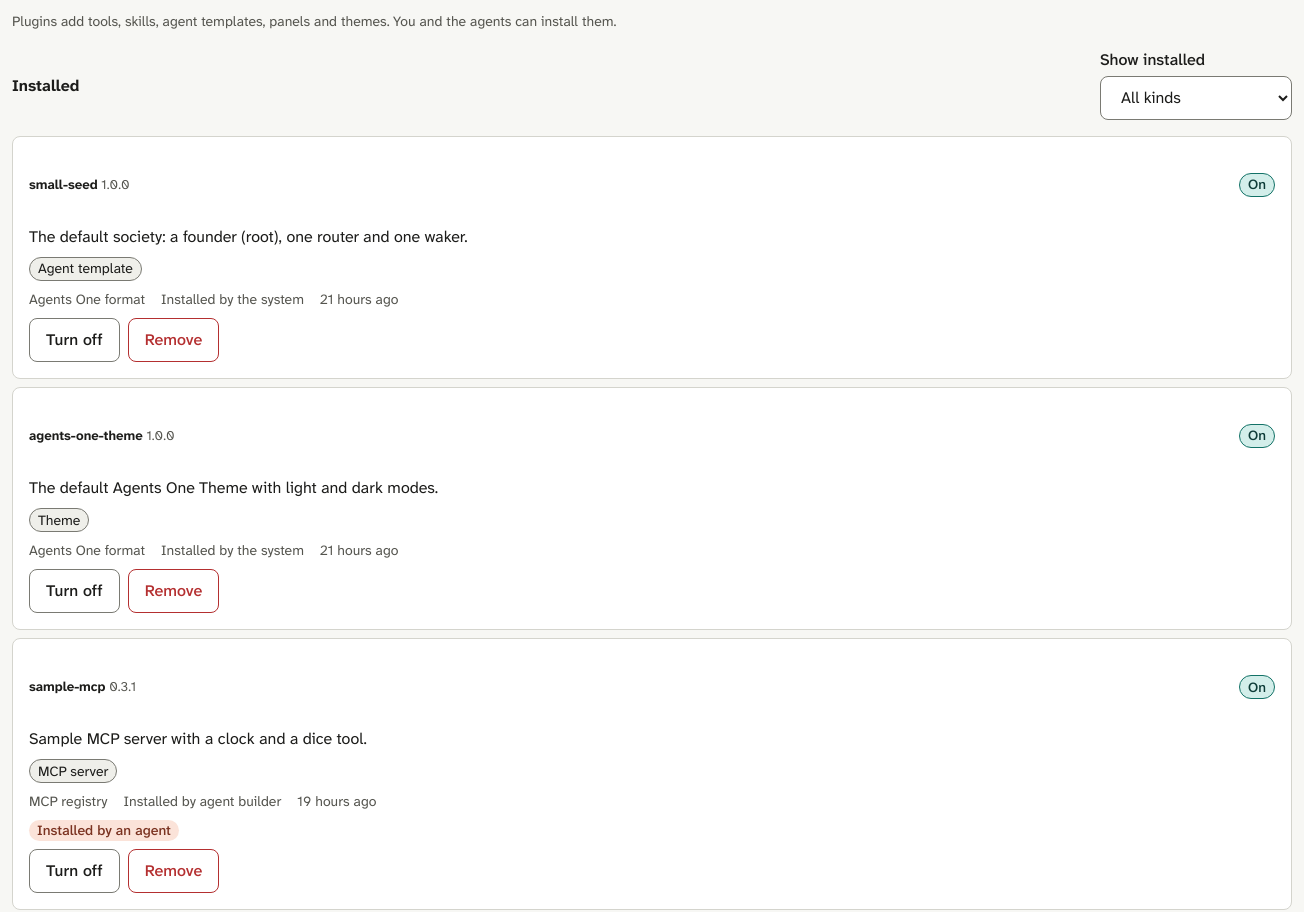
Test: Plugins panel, installed › turns a plugin off and on again
Click the button with aria-label "Turn off sample-mcp" at (74, 871), box [29, 849, 120, 893]
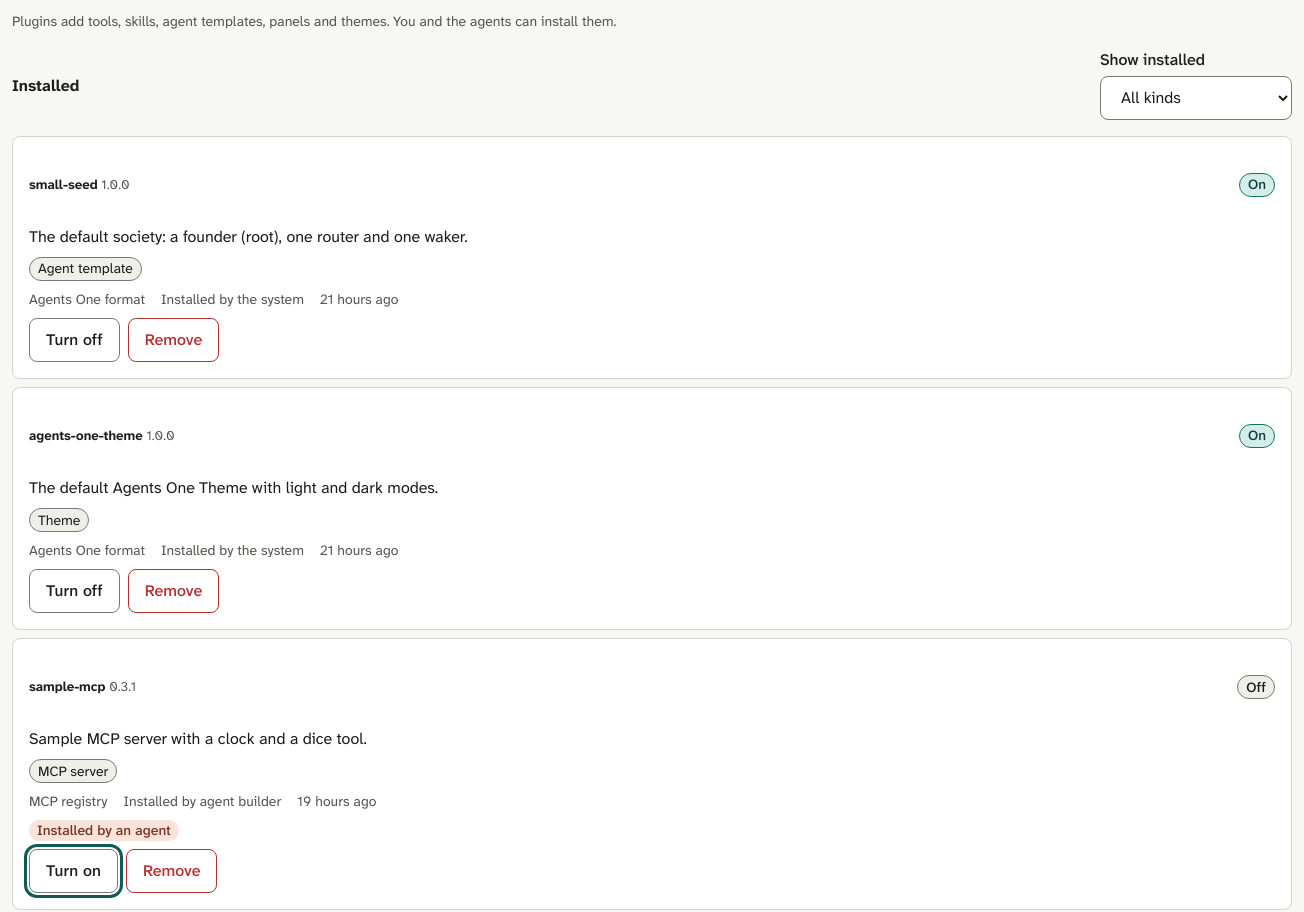
Expected: the button with aria-label "Turn on sample-mcp" is shown
Expected: the text "Off" is shown, [1237, 675, 1275, 699]
Click the button with aria-label "Turn on sample-mcp" at (73, 871), box [29, 849, 118, 893]
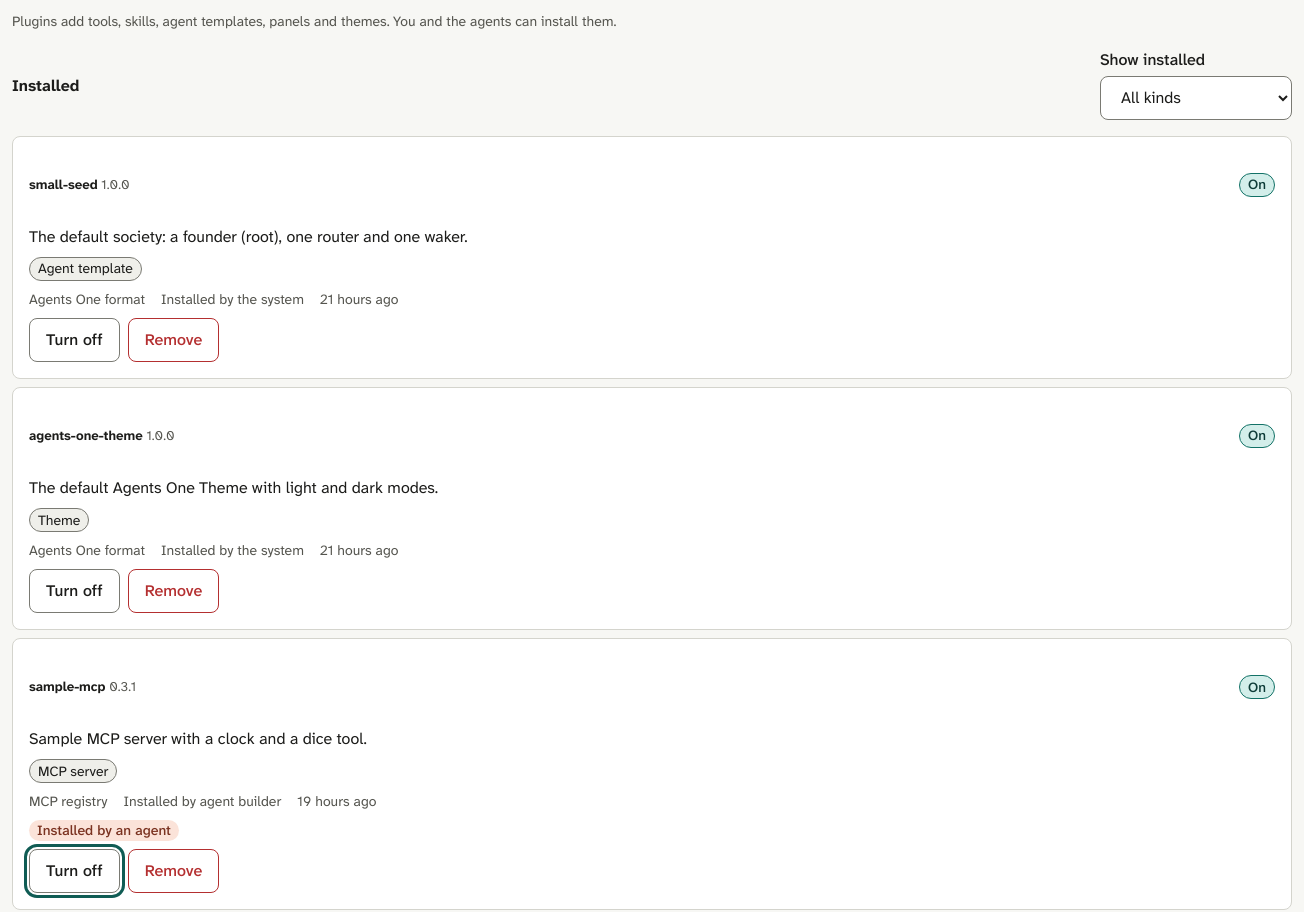
Expected: the button with aria-label "Turn off sample-mcp" is shown, [29, 849, 120, 893]
